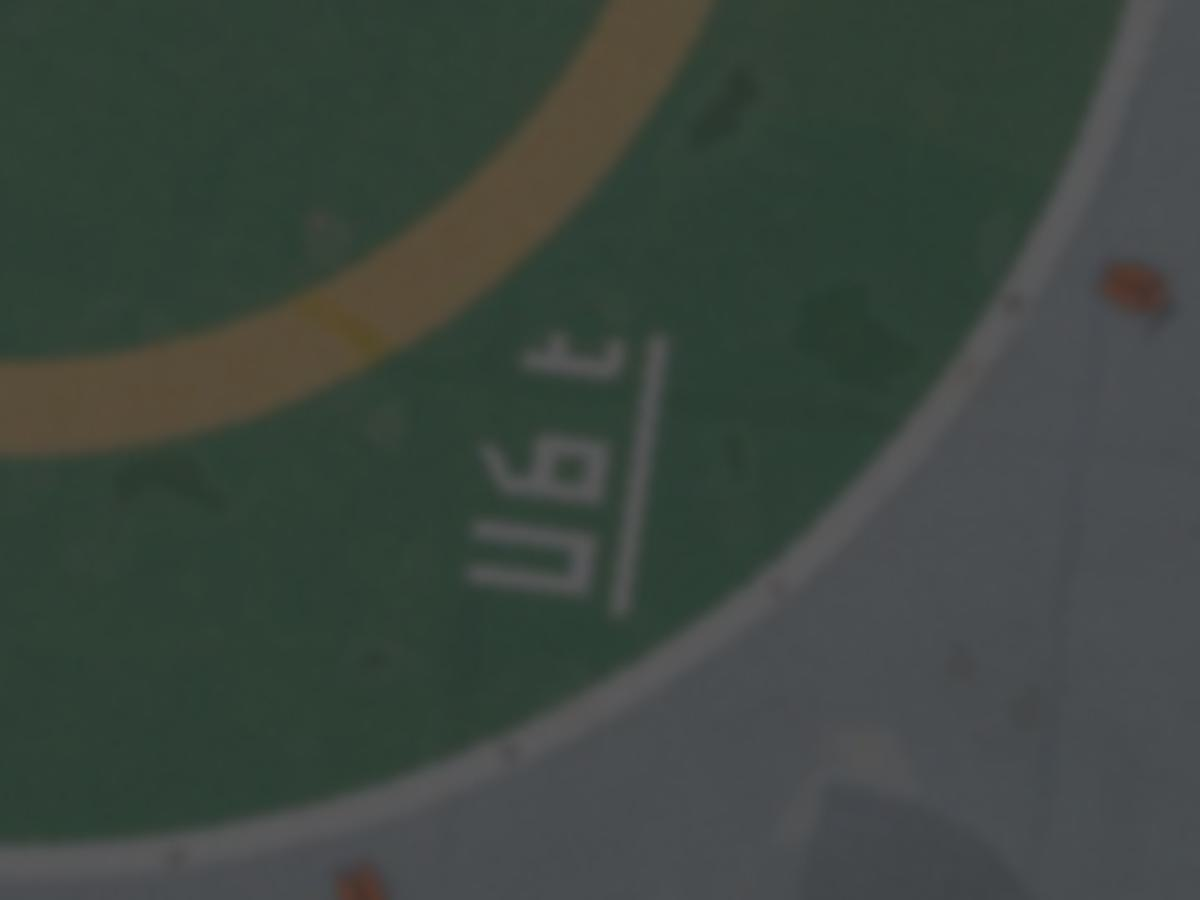Apron: (1, 1, 735, 498)
